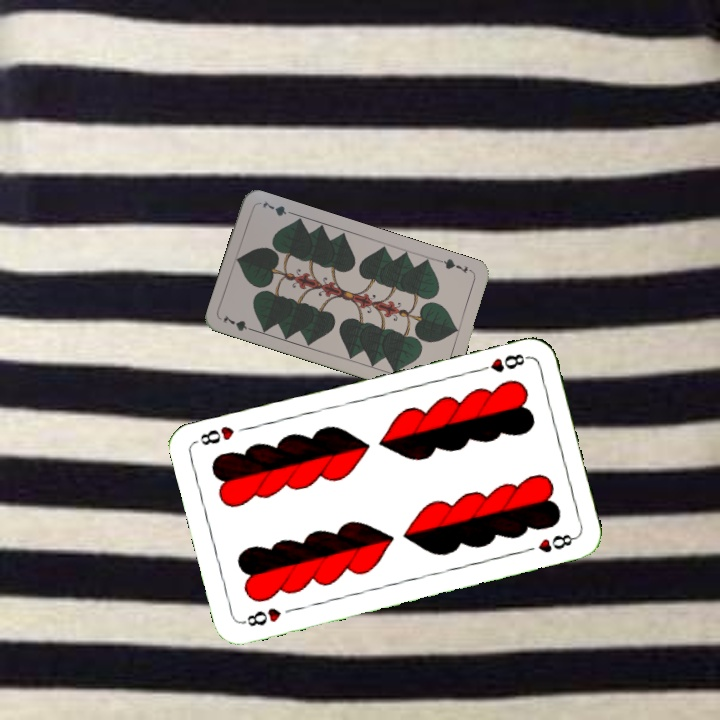G7: (219, 311, 258, 334), (436, 254, 475, 276)
H8: (473, 350, 531, 375), (238, 603, 284, 629)
